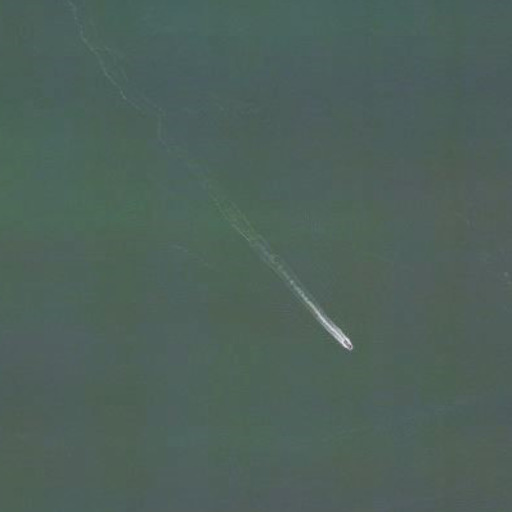ship: (334, 332, 356, 355)
